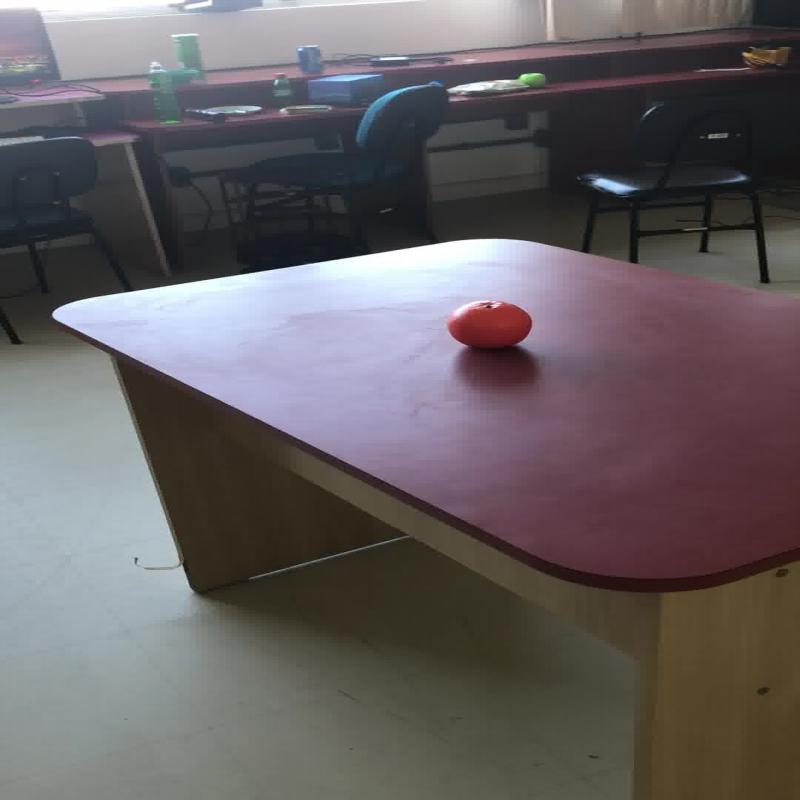orange: (444, 299, 532, 349), (516, 72, 545, 88)
